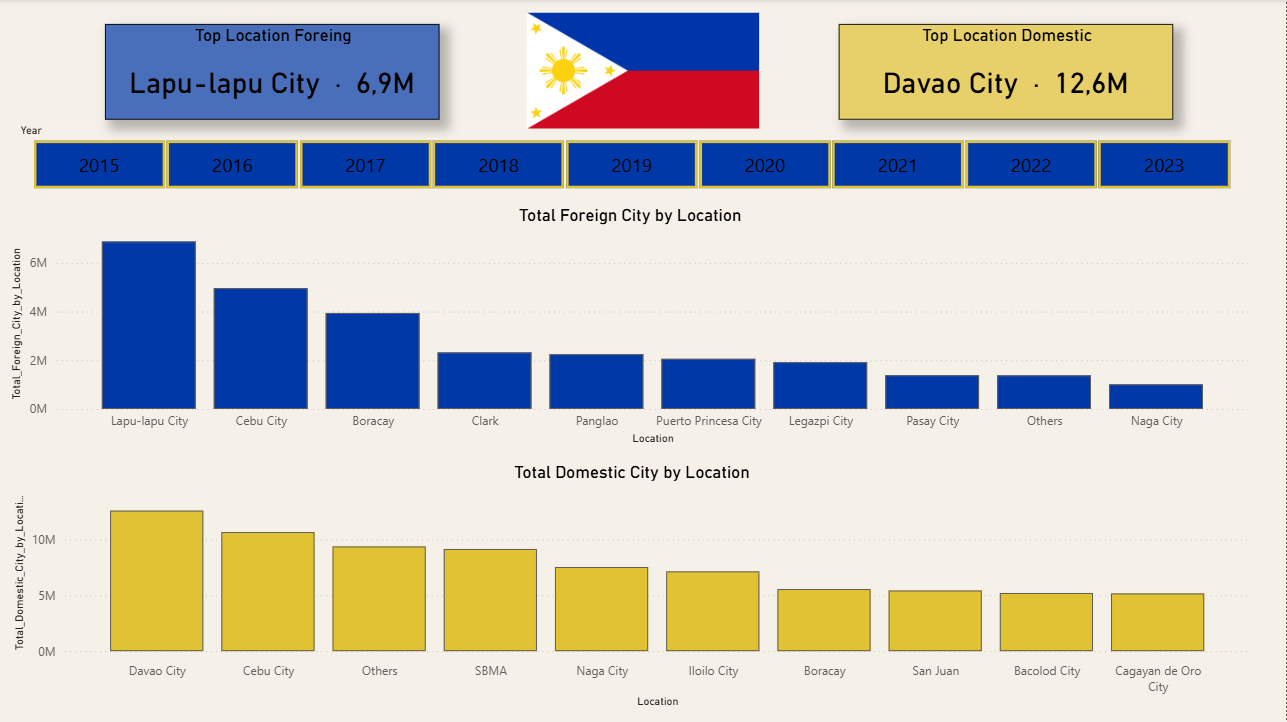

This screenshot's page, from the dashboard's own definition file:
{"tool":"powerbi","page":{"name":"Página 1","canvas":[1280,720],"ordinal":4},"visuals":[{"type":"slicer","fields":{"Values":["Dim_year.Year"]},"box":[0,31.4,1254.3,100],"z":0},{"type":"clusteredColumnChart","fields":{"Category":["Sheet1.Location"],"Y":["Measures (2).Total_Foreign_City_by_Location"]},"box":[7.1,148.6,1241.4,260],"z":1000},{"type":"clusteredColumnChart","fields":{"Y":["Measures (2).Total_Domestic_City_by_Location"],"Category":["Sheet1.Location"]},"box":[7,419,1241,260],"z":2000}]}

Visuals, with their boxes in screenshot pixels (x1, y1, x2, y2), scaled from the page's 1280x720 canvas onto the 1287x722 screenshot:
slicer - Dim_year.Year: l=0, t=31, r=1261, b=132
clusteredColumnChart - Sheet1.Location x Measures (2).Total_Foreign_City_by_Location: l=7, t=149, r=1255, b=410
clusteredColumnChart - Measures (2).Total_Domestic_City_by_Location x Sheet1.Location: l=7, t=420, r=1255, b=681
